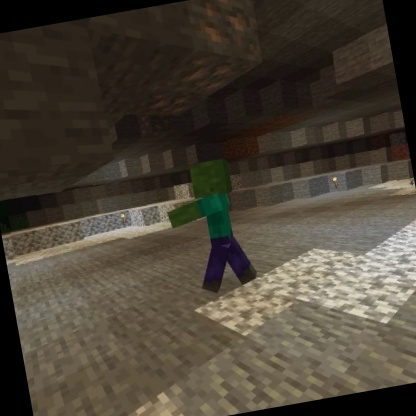zombie: (156, 152, 263, 303)
